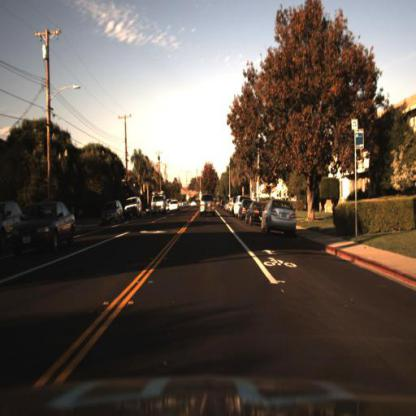car: (14, 201, 77, 256), (262, 195, 301, 243), (1, 198, 22, 246), (125, 190, 147, 226), (147, 187, 170, 220), (100, 199, 126, 228), (197, 188, 221, 219), (99, 200, 127, 224), (126, 196, 144, 218), (247, 200, 262, 226), (249, 202, 263, 228), (169, 196, 183, 217), (233, 197, 242, 219), (240, 201, 247, 219)
